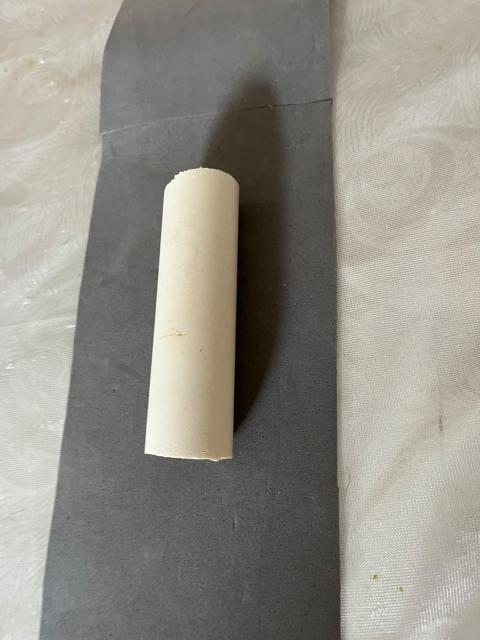PVC: (146, 170, 240, 461)
